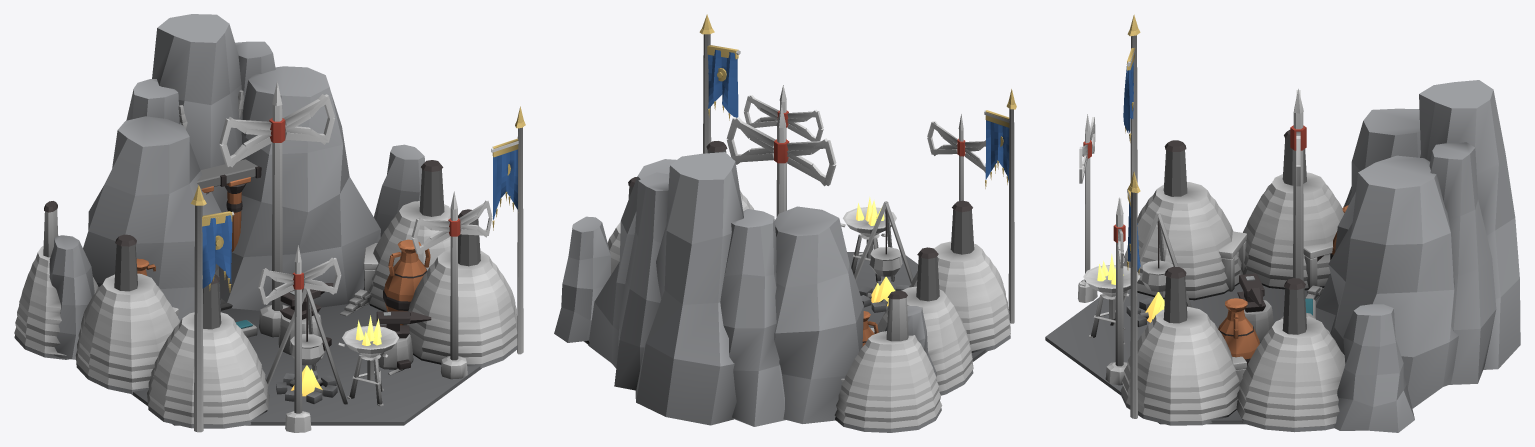
The model's file is dactyl-camp-l3.glb.
3 views of the same model, side by side, from view 1: azimuth 30°, elevation 25°; view 2: azimuth 150°, elevation 25°; view 3: azimuth 270°, elevation 25° (orthographic). The views are drawn at different scales.
Visible parts, largest first — view 1: dactyl-camp-l3; view 2: dactyl-camp-l3; view 3: dactyl-camp-l3.
Boxes of the visible parts, <box> form: dactyl-camp-l3: <box>14,14,525,432</box>; dactyl-camp-l3: <box>554,14,1016,432</box>; dactyl-camp-l3: <box>1045,14,1520,432</box>.
Size of the model in its own units: 1.61 by 0.9775 by 1.65.
